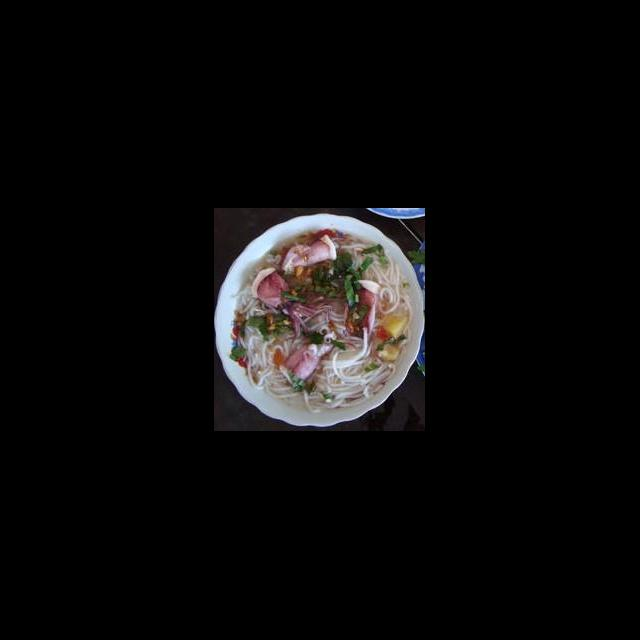bun: (314, 324, 398, 414), (234, 282, 298, 392), (338, 234, 414, 316), (264, 380, 329, 414)
muc: (252, 268, 338, 342), (278, 322, 340, 388), (344, 278, 386, 344), (276, 232, 338, 276)
